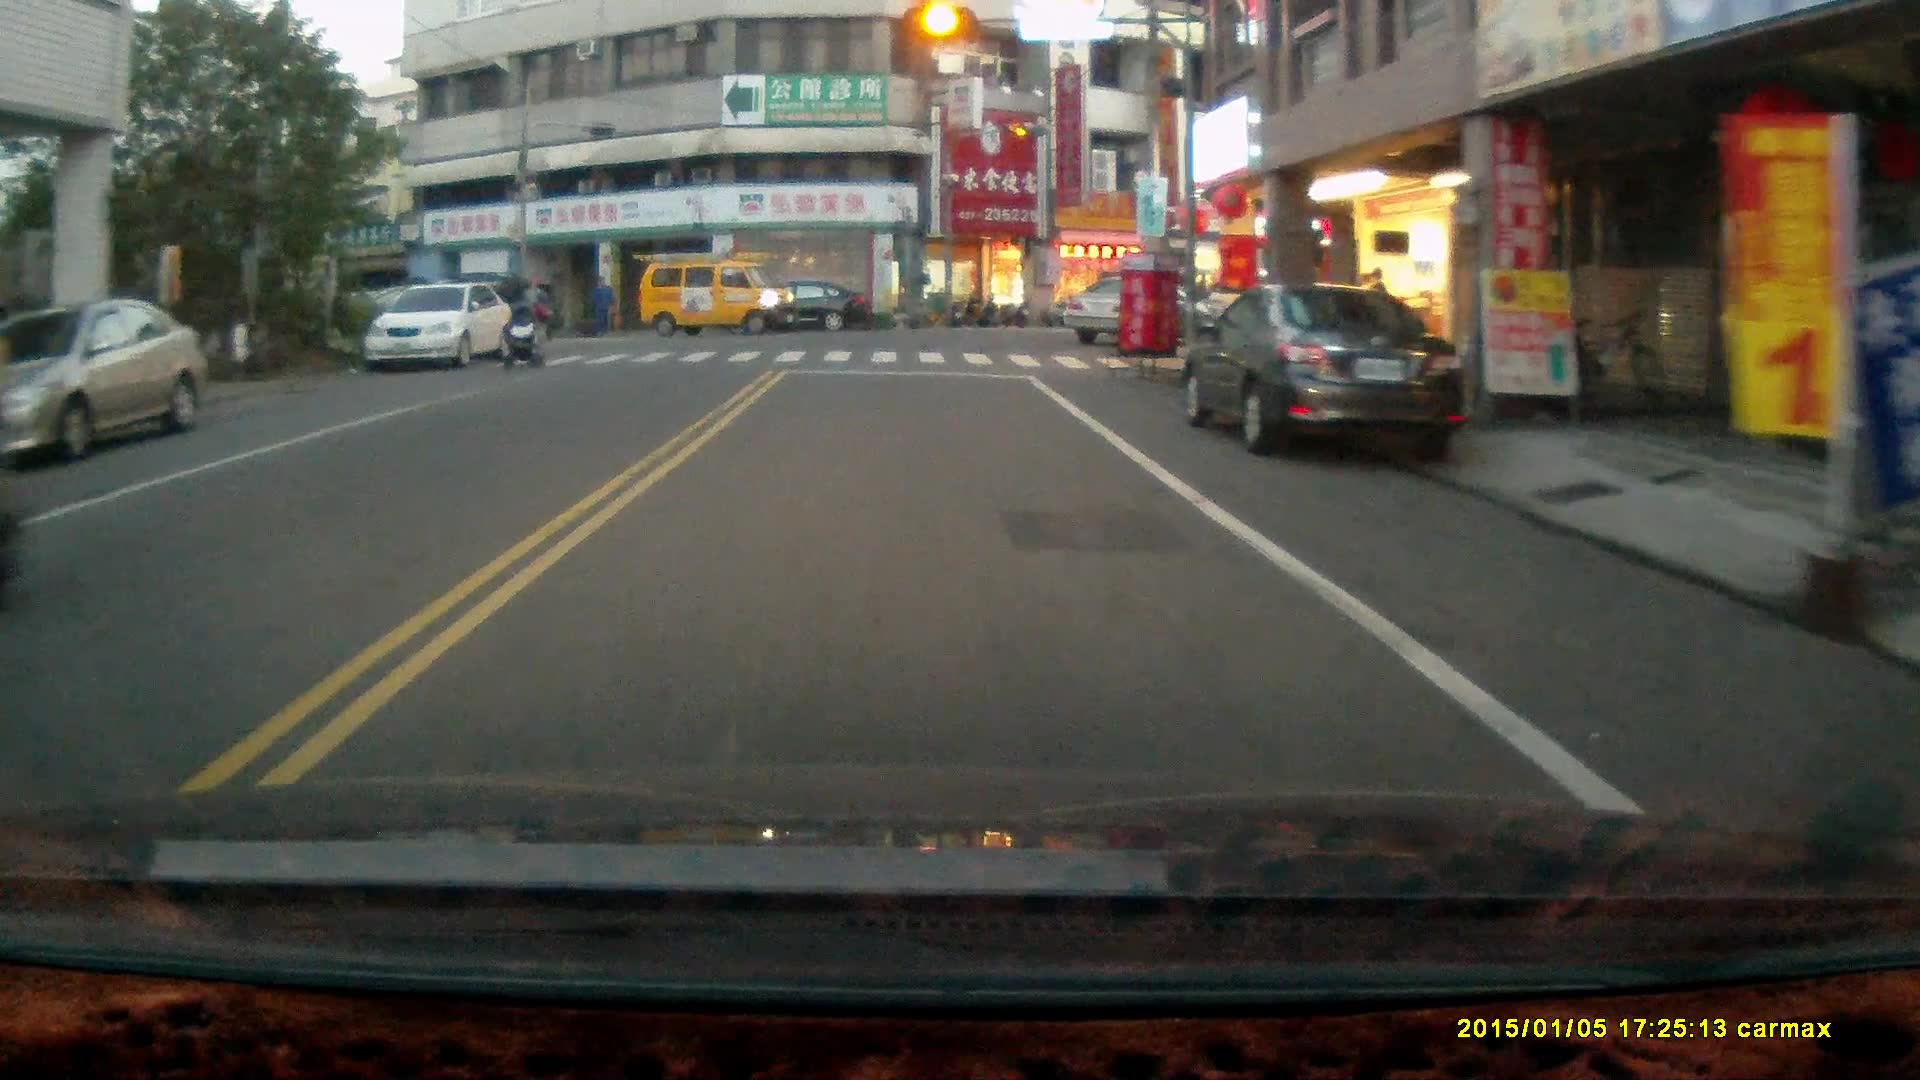pedestrian: (518, 272, 550, 350), (590, 275, 613, 335)
rider: (497, 302, 549, 371)
vehicle: (1181, 284, 1468, 457), (1, 297, 220, 463), (368, 282, 515, 375), (637, 250, 801, 332), (1057, 276, 1198, 350), (738, 281, 867, 335)
